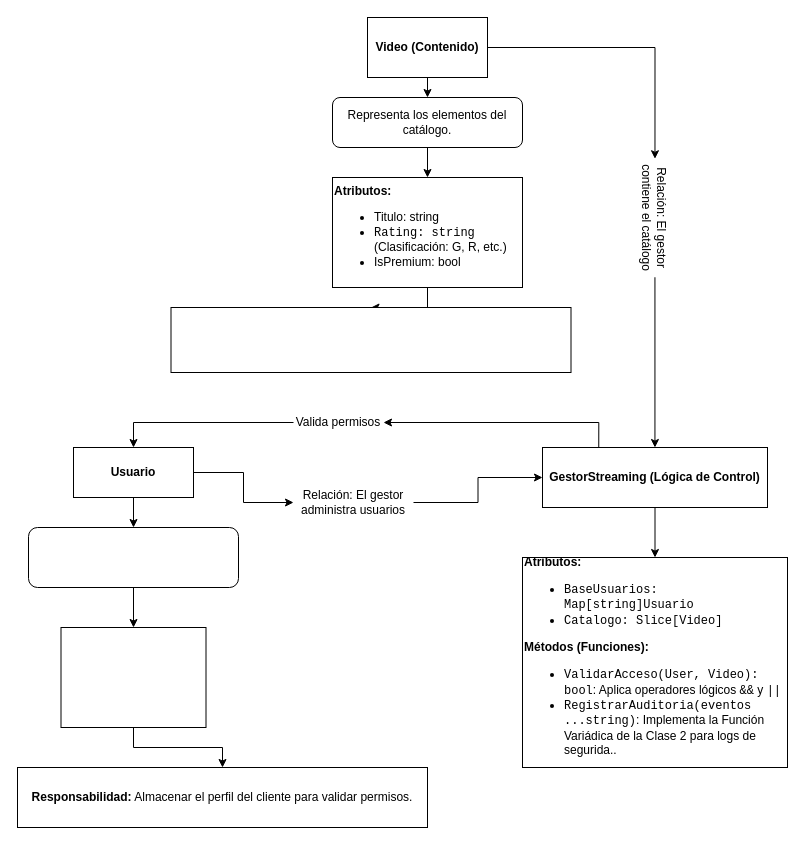
Some shapes in this 805 by 845 pixel diagram are drawn without their labels. Here are the shapes that lost their labels. From the top down, the centre of each, then its label:
At point 370,339: "Responsabilidad: Definir las restricciones de cada pieza de contenido.".
At point 133,557: "Representa la entidad que accede al sistema.".
At point 133,677: "Atributos: Nombre: string Edad: int Suscrito: Bool".
